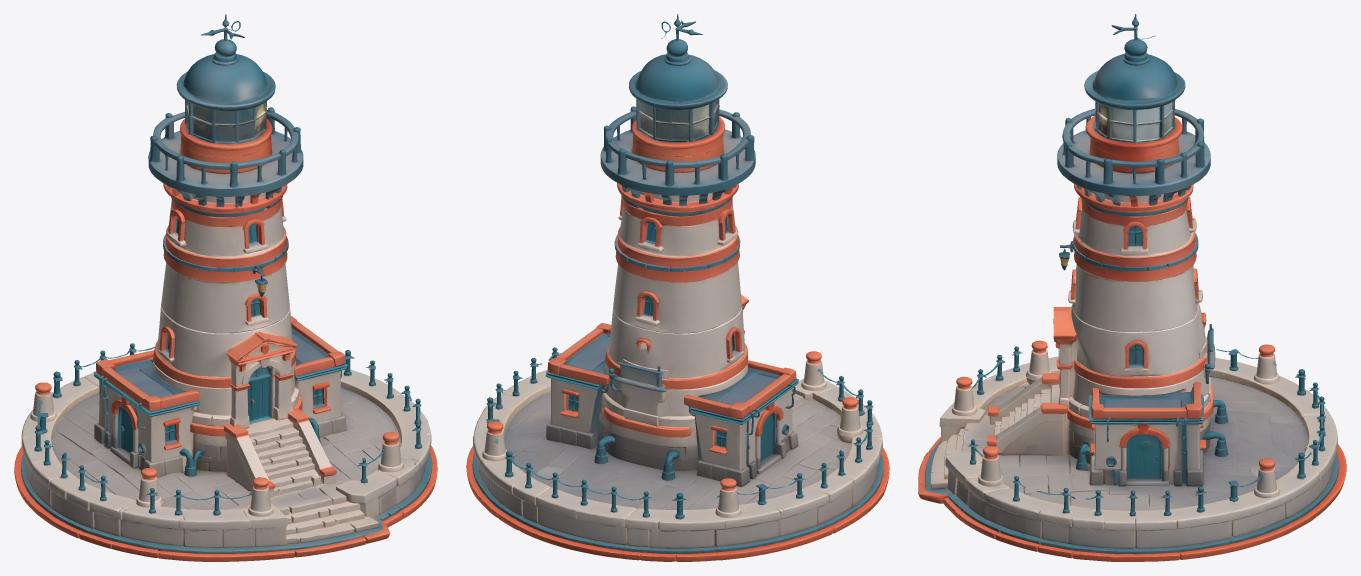
File: lighthouse-cartoon-source.glb
3 renders of one model, left to right at view 1: azimuth 30°, elevation 25°; view 2: azimuth 150°, elevation 25°; view 3: azimuth 270°, elevation 25°, orthographic.
Visible parts, largest first — view 1: model; view 2: model; view 3: model.
Boxes of the visible parts, left/top/right/bottom form: model: left=14, top=14, right=437, bottom=561; model: left=466, top=14, right=889, bottom=561; model: left=918, top=14, right=1346, bottom=561.
Size of the model in its own units: 1.58 by 1.9 by 1.6.
Materials: 1 (1 with a texture image).
